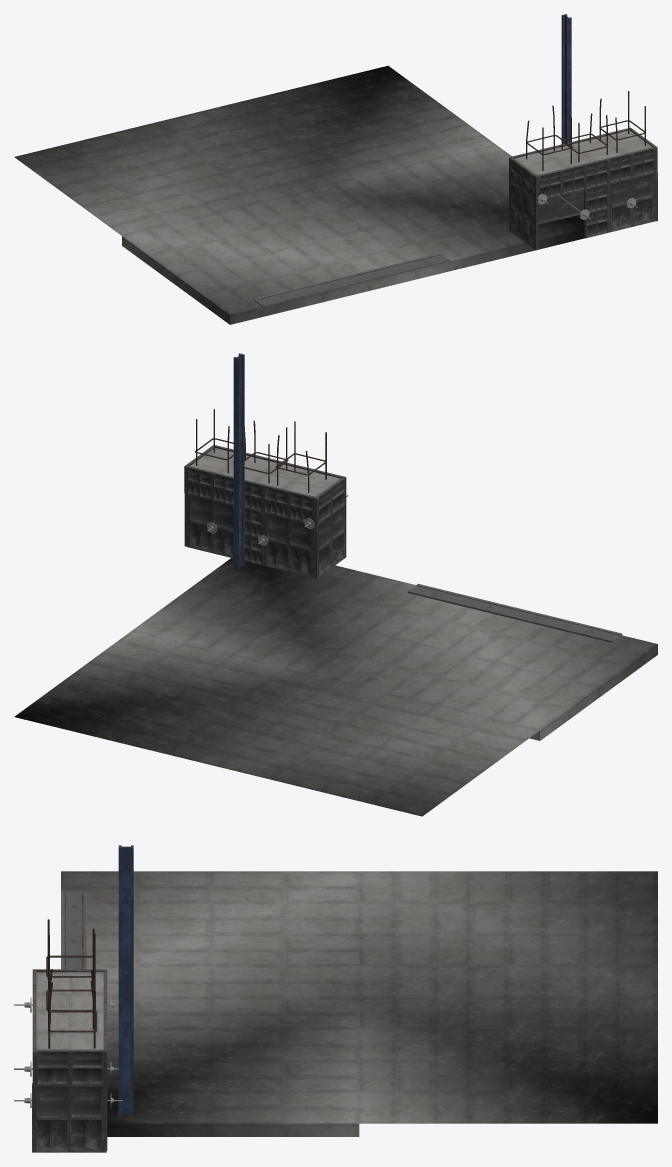
Rendered from BuildingMap_1_0.gltf.
3 views of the same model, one above another, from view 1: azimuth 30°, elevation 25°; view 2: azimuth 150°, elevation 25°; view 3: azimuth 270°, elevation 25° (orthographic). The views are drawn at different scales.
Visible parts, largest first — view 1: SM_Floors_Thick_124, SM_Floors_Plain_10, SM_Floors_Plain_13, SM_Floors_Thick_123, SM_Floors_Plain_2, StaticMeshComponent10, StaticMeshComponent8, SM_Building_Pieces_2_MetalBorder55, SM_Building_Pieces_2_SteelRudder29, SM_Building_Pieces_2_MetalBorder54, SM_Exterior_1__Concrete_Cast_28, SM_Exterior_1__Concrete_Cast_25 (+10 smaller); view 2: SM_Floors_Plain_10, SM_Floors_Plain_13, SM_Floors_Thick_124, SM_Floors_Thick_123, SM_Floors_Plain_2, StaticMeshComponent7, StaticMeshComponent6, StaticMeshComponent8, SM_Building_Pieces_2_MetalBorder55, SM_Building_Pieces_2_MetalBorder54, SM_Building_Pieces_2_SteelRudder29, SM_Building_Pieces_2_SteelRudder178 (+4 smaller); view 3: SM_Floors_Plain_10, SM_Floors_Plain_13, SM_Floors_Thick_123, SM_Floors_Thick_124, StaticMeshComponent9, SM_Floors_Plain_2, SM_Exterior_1__Concrete_Cast_29, SM_Building_Pieces_2_SteelRudder29, SM_Building_Pieces_2_SteelRudder178, SM_Building_Pieces_2_MetalBorder55, SM_Building_Pieces_2_RebarPiece3, SM_Building_Pieces_2_RebarPiece2 (+1 smaller).
Part boxes in pixels (left/top/right/bottom): SM_Floors_Thick_124: left=122, top=190, right=417, bottom=324; SM_Floors_Plain_10: left=201, top=65, right=495, bottom=190; SM_Floors_Plain_13: left=14, top=111, right=308, bottom=235; SM_Floors_Thick_123: left=309, top=145, right=584, bottom=278; SM_Floors_Plain_2: left=514, top=130, right=652, bottom=175; StaticMeshComponent10: left=608, top=172, right=655, bottom=232; StaticMeshComponent8: left=509, top=182, right=538, bottom=250; SM_Building_Pieces_2_MetalBorder55: left=253, top=276, right=356, bottom=306; SM_Building_Pieces_2_SteelRudder29: left=561, top=14, right=571, bottom=115; SM_Building_Pieces_2_MetalBorder54: left=347, top=253, right=449, bottom=284; SM_Exterior_1__Concrete_Cast_28: left=509, top=156, right=538, bottom=201; SM_Exterior_1__Concrete_Cast_25: left=584, top=158, right=608, bottom=189; SM_Floors_Plain_10: left=14, top=631, right=335, bottom=766; SM_Floors_Plain_13: left=218, top=680, right=539, bottom=816; SM_Floors_Thick_124: left=336, top=602, right=657, bottom=740; SM_Floors_Thick_123: left=132, top=558, right=443, bottom=680; SM_Floors_Plain_2: left=190, top=448, right=340, bottom=496; StaticMeshComponent7: left=263, top=512, right=314, bottom=577; StaticMeshComponent6: left=187, top=493, right=233, bottom=558; StaticMeshComponent8: left=314, top=504, right=346, bottom=578; SM_Building_Pieces_2_MetalBorder55: left=510, top=608, right=622, bottom=642; SM_Building_Pieces_2_MetalBorder54: left=407, top=583, right=519, bottom=617; SM_Building_Pieces_2_SteelRudder29: left=233, top=353, right=244, bottom=464; SM_Building_Pieces_2_SteelRudder178: left=233, top=460, right=244, bottom=569; SM_Floors_Plain_10: left=359, top=997, right=657, bottom=1123; SM_Floors_Plain_13: left=359, top=871, right=657, bottom=997; SM_Floors_Thick_123: left=107, top=997, right=359, bottom=1136; SM_Floors_Thick_124: left=61, top=871, right=359, bottom=997; StaticMeshComponent9: left=32, top=1083, right=106, bottom=1152; SM_Floors_Plain_2: left=36, top=972, right=103, bottom=1049; SM_Exterior_1__Concrete_Cast_29: left=32, top=1049, right=107, bottom=1084; SM_Building_Pieces_2_SteelRudder29: left=118, top=845, right=133, bottom=981; SM_Building_Pieces_2_SteelRudder178: left=118, top=980, right=133, bottom=1115; SM_Building_Pieces_2_MetalBorder55: left=61, top=891, right=86, bottom=954; SM_Building_Pieces_2_RebarPiece3: left=48, top=970, right=97, bottom=1048; SM_Building_Pieces_2_RebarPiece2: left=46, top=919, right=95, bottom=988.
Bounding box in the file's own units: 17.85 × 8.3 × 17.26.
7 materials, 7 textured.
